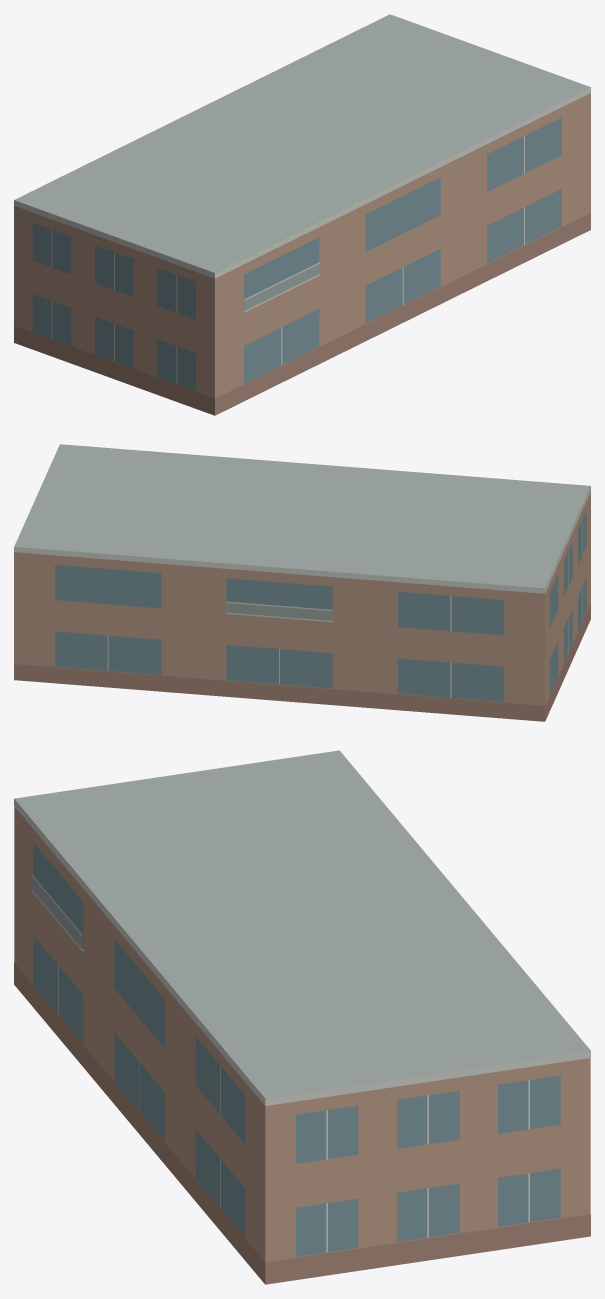
The model's file is survey-upis-32836601.glb.
3 views of the same model, one above another, from view 1: azimuth 30°, elevation 25°; view 2: azimuth 150°, elevation 25°; view 3: azimuth 270°, elevation 25° (orthographic). The views are drawn at different scales.
Parts seen in each view (by area): view 1: survey-upis-32836601.tmp; view 2: survey-upis-32836601.tmp; view 3: survey-upis-32836601.tmp.
Boxes of the visible parts, left/top/right/bottom form: survey-upis-32836601.tmp: left=14, top=14, right=590, bottom=415; survey-upis-32836601.tmp: left=14, top=444, right=590, bottom=721; survey-upis-32836601.tmp: left=14, top=750, right=590, bottom=1284.
Size of the model in its own units: 24.53 by 6.1 by 17.16.
